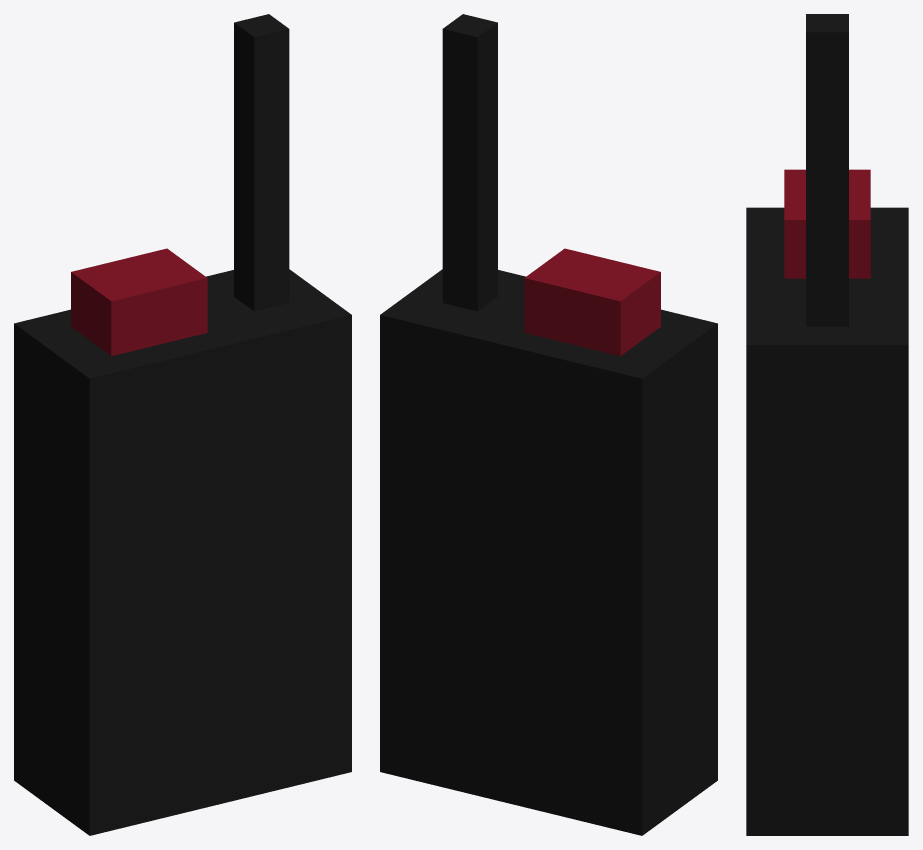
The model's file is SyndicateBombBeacon.fbx.
The picture shows the model from 3 angles, left to right: view 1: azimuth 30°, elevation 25°; view 2: azimuth 150°, elevation 25°; view 3: azimuth 270°, elevation 25°; orthographic projection. The views are drawn at different scales.
Visible parts, largest first — view 1: SyndicateBombBeacon; view 2: SyndicateBombBeacon; view 3: SyndicateBombBeacon.
Boxes of the visible parts, x1,y1,x2,y2 form: SyndicateBombBeacon: [14, 14, 351, 835]; SyndicateBombBeacon: [380, 14, 717, 835]; SyndicateBombBeacon: [746, 14, 908, 835].
Size of the model in its own units: 6 by 16 by 3.
